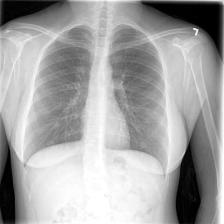normal: (17, 20, 172, 178)
